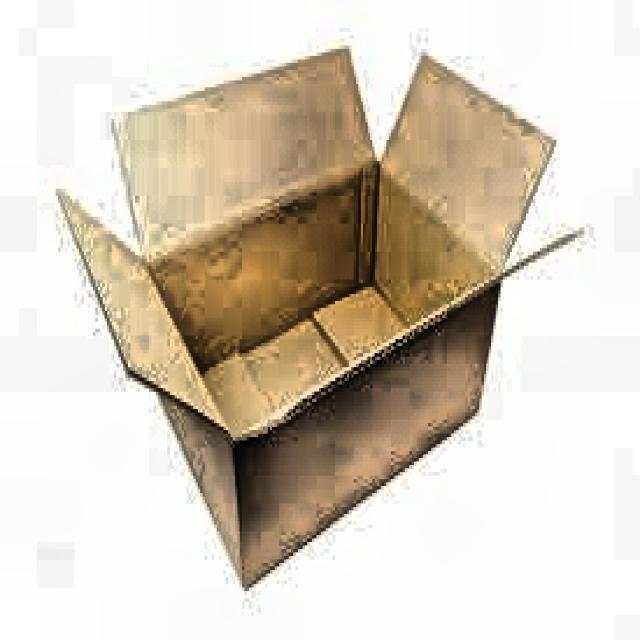cardboard: (53, 42, 580, 588)
